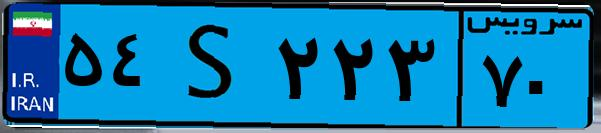0: (525, 38, 570, 115)
2: (270, 28, 330, 110), (330, 28, 385, 110)
3: (385, 28, 445, 110)
4: (110, 28, 158, 98)
5: (57, 26, 110, 100)
7: (475, 38, 525, 113)
S: (158, 12, 270, 120)
